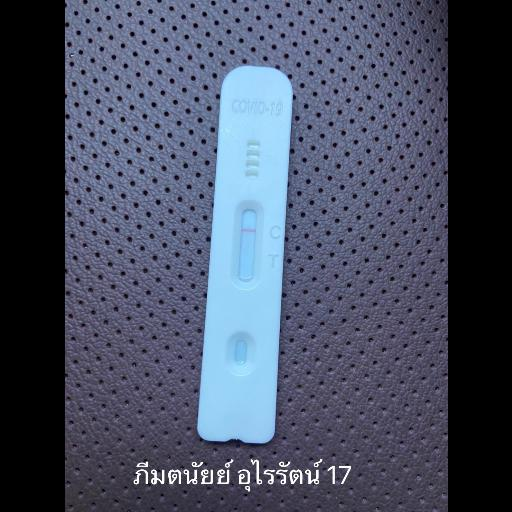Neg: (192, 67, 296, 450)
